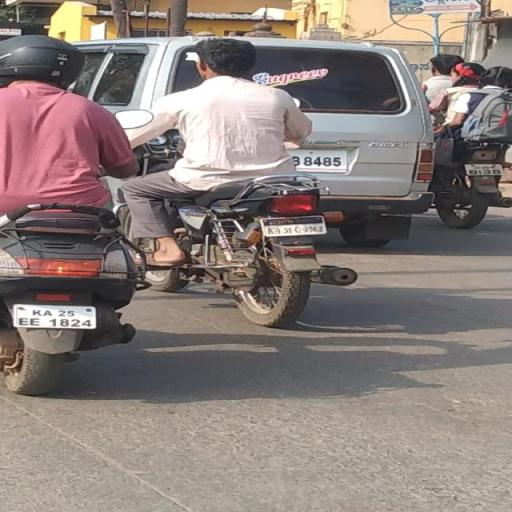bike: (114, 35, 360, 334)
numberplate: (260, 214, 328, 238)
withouthelmet: (200, 39, 254, 76)
